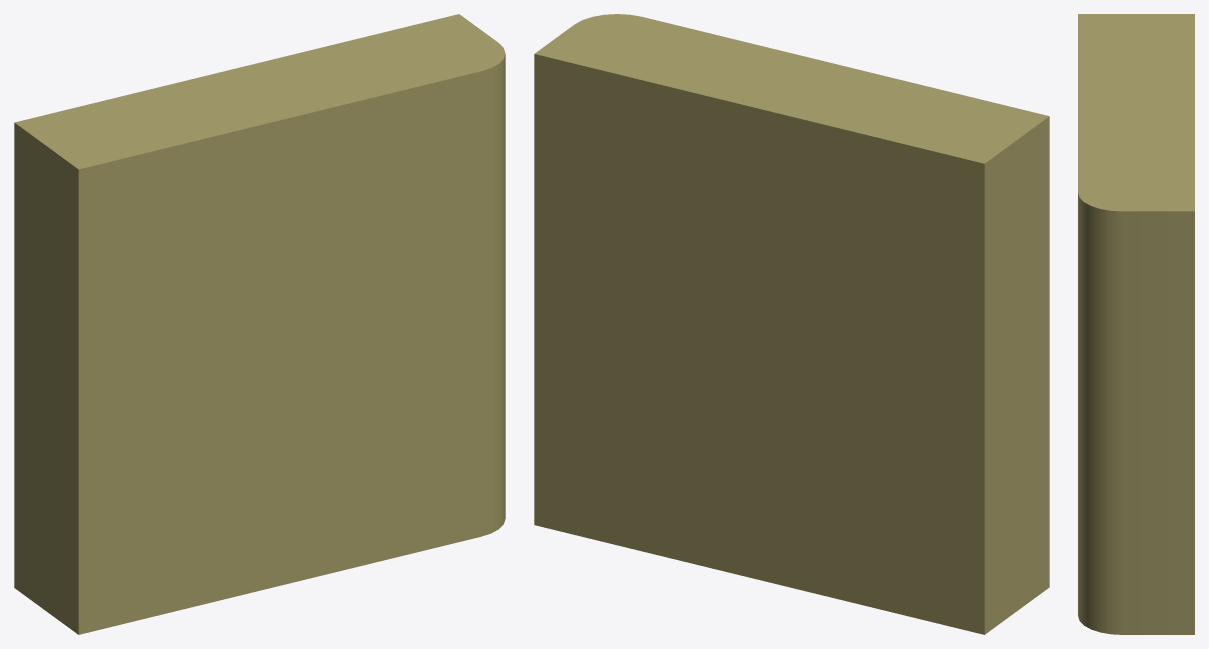
The model's file is Apartments01_wall.fbx.
3 renders of one model, left to right at view 1: azimuth 30°, elevation 25°; view 2: azimuth 150°, elevation 25°; view 3: azimuth 270°, elevation 25°, orthographic. The views are drawn at different scales.
Visible parts, largest first — view 1: Apartments01_wall; view 2: Apartments01_wall; view 3: Apartments01_wall.
Part boxes in pixels (<box>): Apartments01_wall: <box>14,14,505,634</box>; Apartments01_wall: <box>534,14,1049,634</box>; Apartments01_wall: <box>1078,14,1194,634</box>.
Size of the model in its own units: 400 by 400 by 100.
